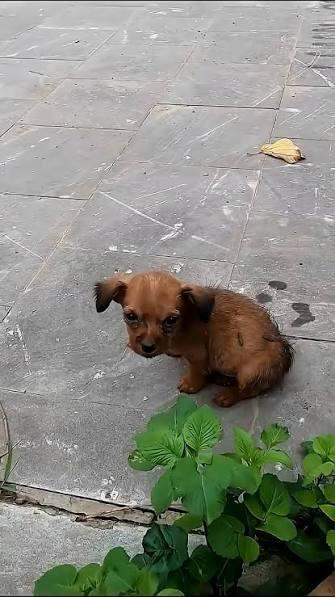puppy-dog: (93, 271, 298, 409)
